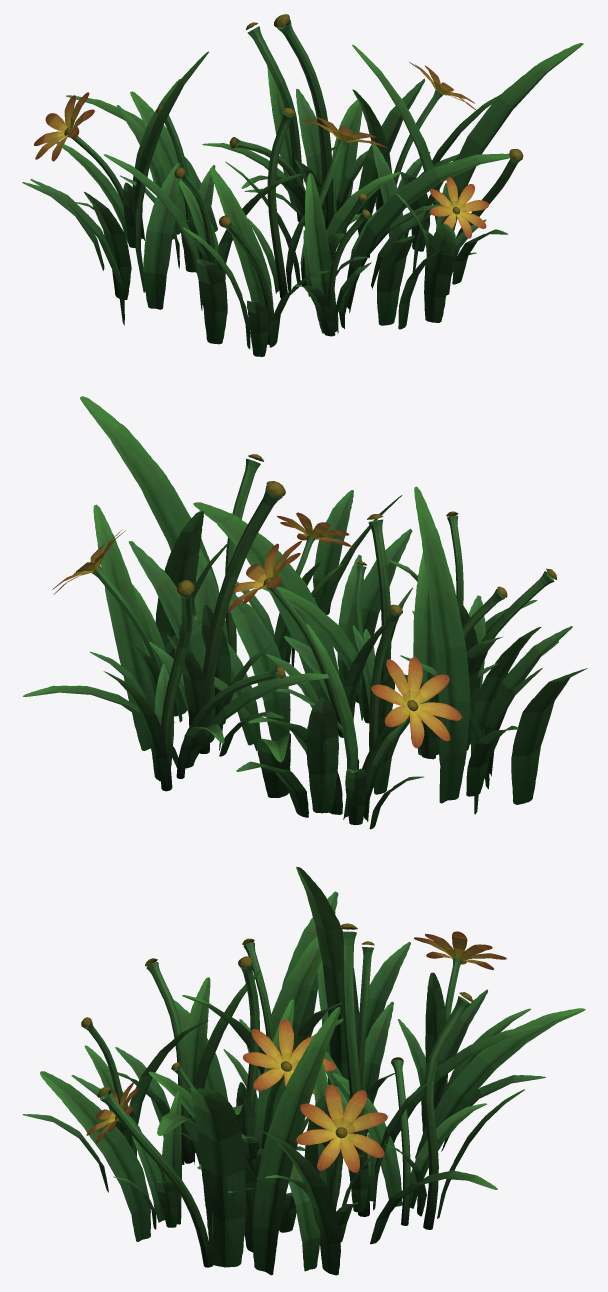
The model's file is P_Flowerbosiju_02.obj.
The picture shows the model from 3 angles, top to bottom: view 1: azimuth 30°, elevation 25°; view 2: azimuth 150°, elevation 25°; view 3: azimuth 270°, elevation 25°; orthographic projection. The views are drawn at different scales.
Bounding box in the file's own units: 0.9636 × 0.4953 × 0.851.
1 material, 1 textured.
